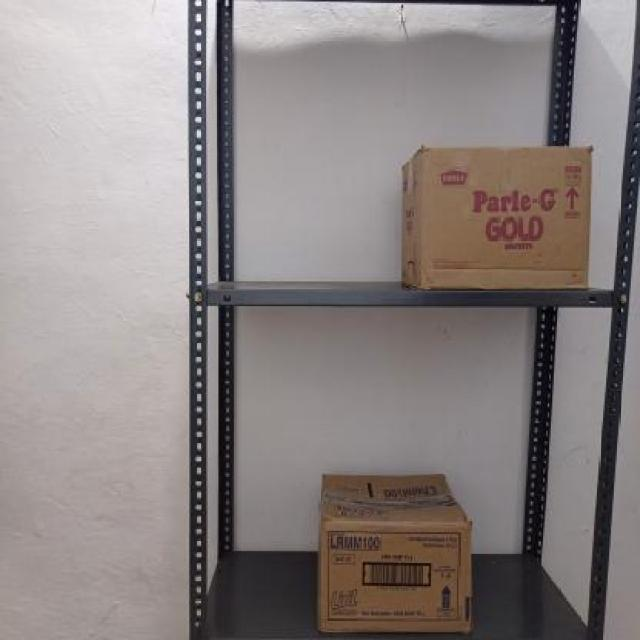box: (422, 149, 590, 289), (318, 520, 474, 636)
